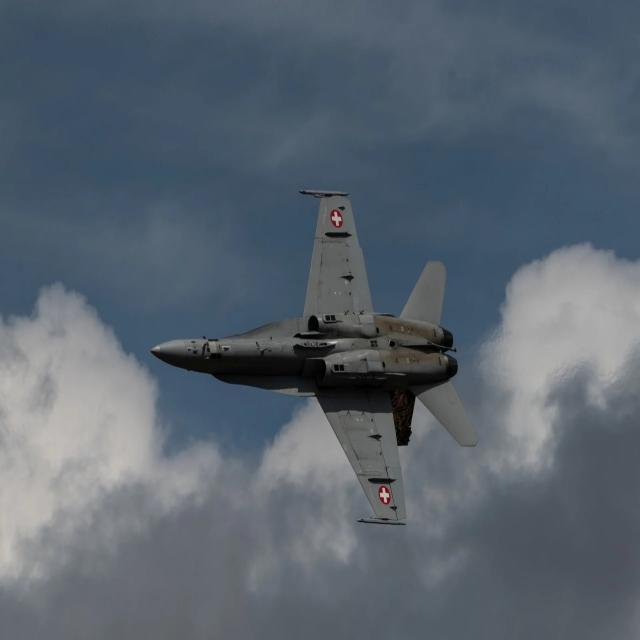MIL_Plane: (150, 189, 478, 526)
